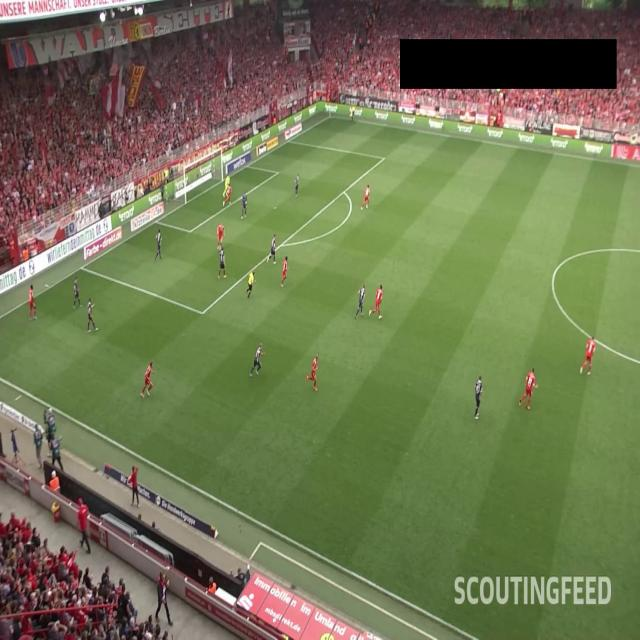GoalKeeper: (223, 174, 231, 198)
Referee: (246, 270, 256, 299), (352, 103, 356, 123)
TEAM 1: (519, 367, 538, 410), (580, 336, 596, 376), (305, 355, 319, 392), (369, 283, 383, 319), (140, 363, 154, 397), (28, 283, 38, 320), (216, 222, 226, 249), (280, 254, 288, 287), (360, 184, 370, 209), (223, 184, 232, 209)
TEAM 2: (248, 344, 265, 377), (86, 296, 98, 334), (354, 284, 366, 318), (474, 375, 483, 420), (217, 246, 228, 279), (73, 277, 83, 310), (154, 227, 164, 260), (267, 234, 277, 264), (240, 192, 248, 220), (294, 174, 300, 198)
